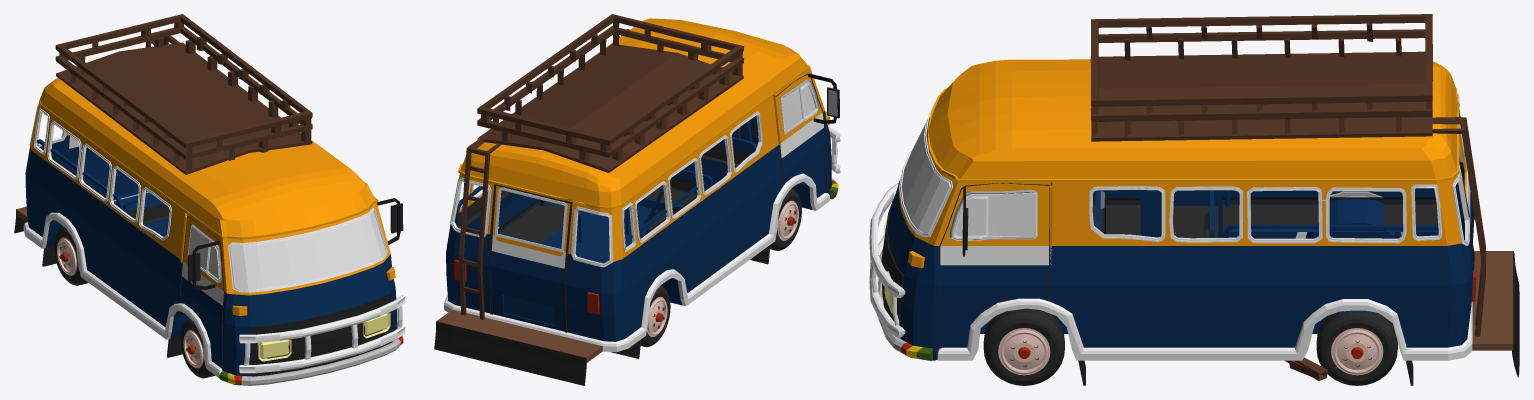
Rendered from Car rapide.fbx.
3 renders of one model, left to right at view 1: azimuth 30°, elevation 25°; view 2: azimuth 150°, elevation 25°; view 3: azimuth 270°, elevation 25°, orthographic. The views are drawn at different scales.
Visible parts, largest first — view 1: Carosserie, Pare buffle, Porte_avant_droit, Parechoc avant.003, Porte_arriere, Chaises arrière, Pneu arrière droit, Pneu avant droit, Garde boue, Porte_avant_gauche.001, Retroviseur gauche; view 2: Carosserie, Porte_arriere, Chaises arrière, Garde boue, Porte_avant_droit, Escalier, Grille, Pneu avant droit, Pneu arrière droit, Fenetre_arriere, Porte_avant_gauche.001; view 3: Carosserie, Porte_avant_gauche, Chaises arrière, Pneu avant gauche, Pneu arrière gauche, Pare buffle, Escalier, Garde boue, Parechoc avant.003.
Boxes of the visible parts, <box> form: Carosserie: <box>16,14,396,377</box>; Pare buffle: <box>239,295,405,373</box>; Porte_avant_droit: <box>180,217,223,368</box>; Parechoc avant.003: <box>219,335,403,385</box>; Porte_arriere: <box>68,136,138,200</box>; Chaises arrière: <box>37,139,169,224</box>; Pneu arrière droit: <box>54,226,88,285</box>; Pneu avant droit: <box>180,318,214,378</box>; Garde boue: <box>14,206,182,357</box>; Porte_avant_gauche.001: <box>188,241,220,289</box>; Retroviseur gauche: <box>377,198,403,244</box>; Carosserie: <box>436,14,831,362</box>; Porte_arriere: <box>490,185,570,331</box>; Chaises arrière: <box>454,136,756,243</box>; Garde boue: <box>434,245,770,385</box>; Porte_avant_droit: <box>775,74,826,197</box>; Escalier: <box>459,138,501,319</box>; Grille: <box>637,116,758,210</box>; Pneu avant droit: <box>770,188,801,250</box>; Pneu arrière droit: <box>640,285,670,347</box>; Fenetre_arriere: <box>494,187,567,252</box>; Porte_avant_gauche.001: <box>808,73,839,123</box>; Carosserie: <box>881,14,1512,380</box>; Porte_avant_gauche: <box>938,183,1049,347</box>; Chaises arrière: <box>1092,190,1438,312</box>; Pneu avant gauche: <box>983,308,1064,385</box>; Pneu arrière gauche: <box>1316,312,1397,385</box>; Pare buffle: <box>869,183,905,337</box>; Escalier: <box>1432,117,1485,336</box>; Garde boue: <box>1078,251,1519,385</box>; Parechoc avant.003: <box>878,279,932,360</box>.
Bounding box in the file's own units: 122 × 117 × 243.
